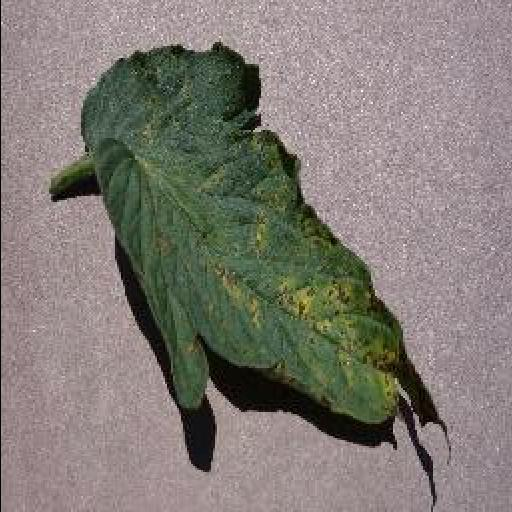disease_tomato: (86, 44, 452, 424)
